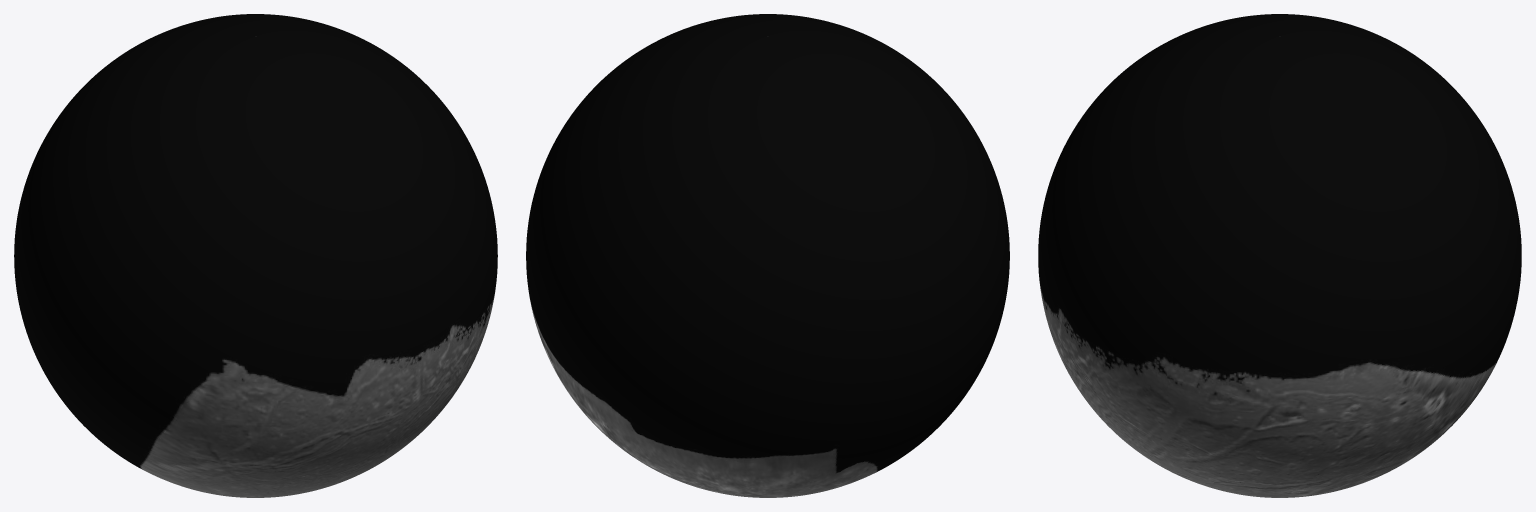
Rendered from ariel.glb.
3 renders of one model, left to right at view 1: azimuth 30°, elevation 25°; view 2: azimuth 150°, elevation 25°; view 3: azimuth 270°, elevation 25°, orthographic.
Parts seen in each view (by area): view 1: Ariel_Asset; view 2: Ariel_Asset; view 3: Ariel_Asset.
Part boxes in pixels (x1=…): Ariel_Asset: x1=14, y1=14, x2=497, y2=497; Ariel_Asset: x1=526, y1=14, x2=1009, y2=497; Ariel_Asset: x1=1038, y1=14, x2=1521, y2=497.
Bounding box in the file's own units: 0.3994 × 0.4 × 0.3994.
Materials: 1 (1 with a texture image).
